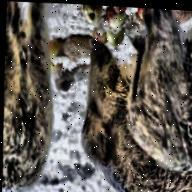boar: (76, 37, 192, 192), (121, 7, 192, 176), (0, 2, 58, 192)
